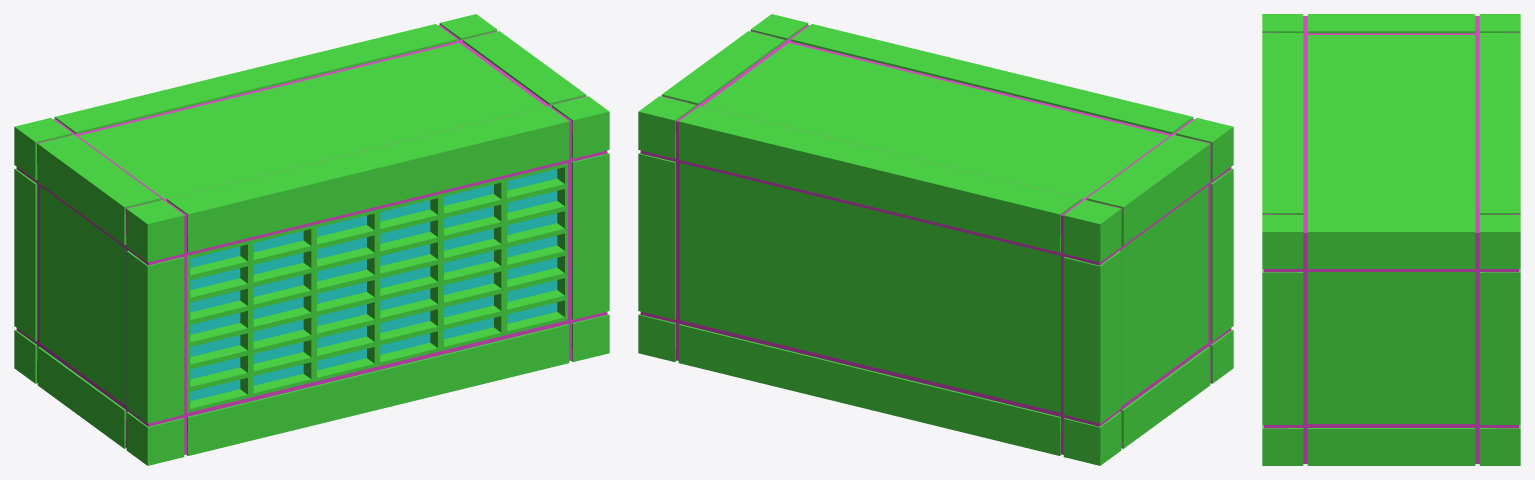
Rendered from Vent_13_A.fbx.
3 renders of one model, left to right at view 1: azimuth 30°, elevation 25°; view 2: azimuth 150°, elevation 25°; view 3: azimuth 270°, elevation 25°, orthographic. The views are drawn at different scales.
Parts seen in each view (by area): view 1: Vent_13_A; view 2: Vent_13_A; view 3: Vent_13_A.
Part boxes in pixels (left/top/right/bottom): Vent_13_A: left=14, top=14, right=609, bottom=465; Vent_13_A: left=638, top=14, right=1233, bottom=465; Vent_13_A: left=1262, top=14, right=1520, bottom=465.
Size of the model in its own units: 183 by 91.44 by 91.44.
